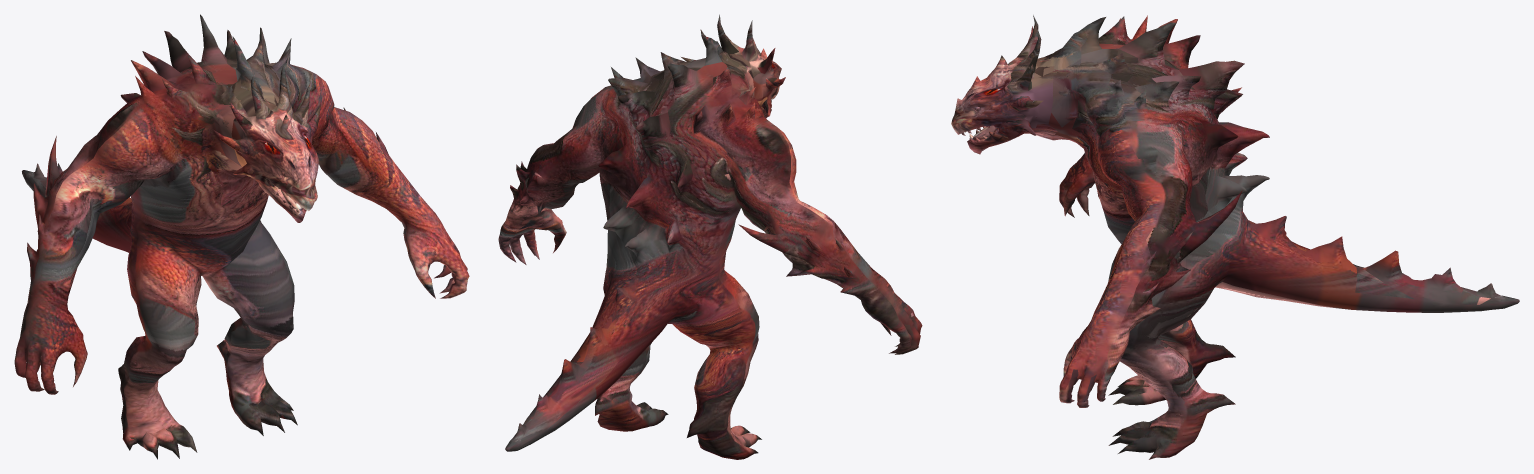
File: oaxiltso-overview-v1.glb
3 renders of one model, left to right at view 1: azimuth 30°, elevation 25°; view 2: azimuth 150°, elevation 25°; view 3: azimuth 270°, elevation 25°, orthographic. The views are drawn at different scales.
Visible parts, largest first — view 1: oaxiltso; view 2: oaxiltso; view 3: oaxiltso.
Part boxes in pixels (box(x1,y1,x2,y2)): oaxiltso: box(14, 14, 469, 459); oaxiltso: box(498, 14, 922, 459); oaxiltso: box(951, 15, 1519, 459).
Size of the model in its own units: 2.25 by 2 by 2.55.
Materials: 1 (1 with a texture image).
